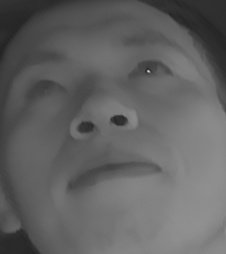eye: (122, 53, 181, 90), (23, 71, 69, 107)
mouth: (59, 149, 161, 198)
